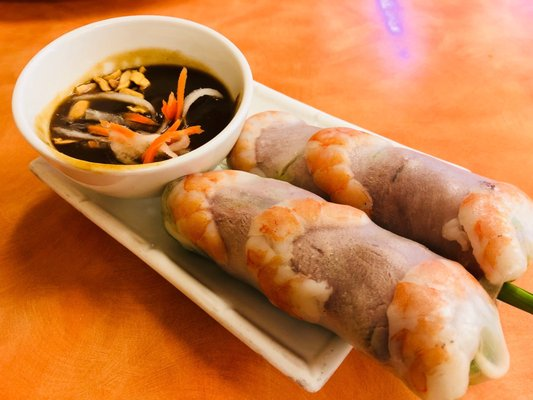sushi: (10, 15, 255, 200)
